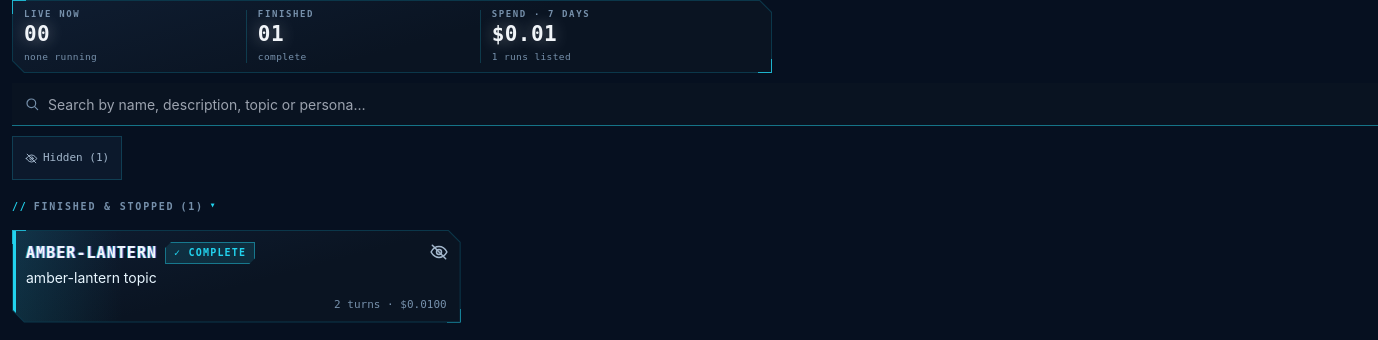
Scenario: hidden runs are left out by default › from search, on the client and from the server past the list cap
Check: the text "amber-lantern" is shown, box [26,244,157,262]
Type "signal" into the search field. click: (707, 104)
box: [48,83,1366,125]
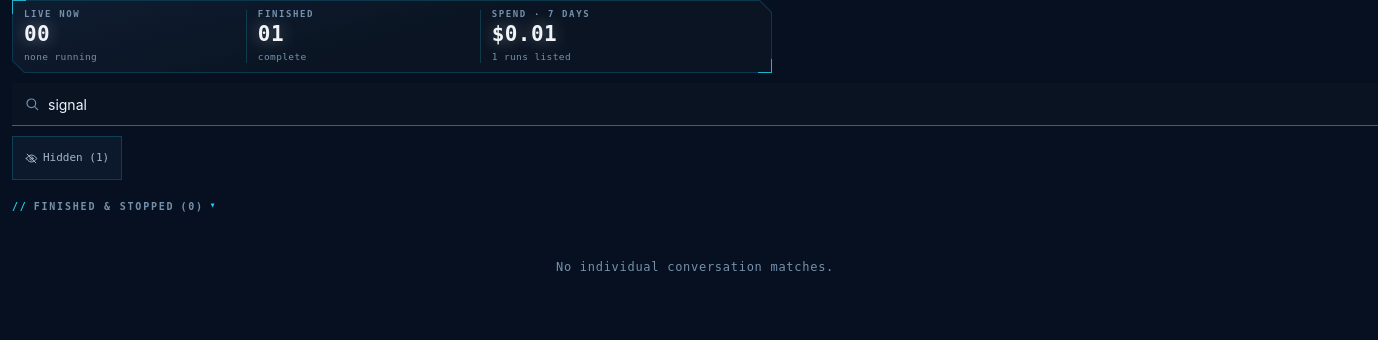
Check: the text "No individual conversation matches." is shown, box [556,260,834,274]
